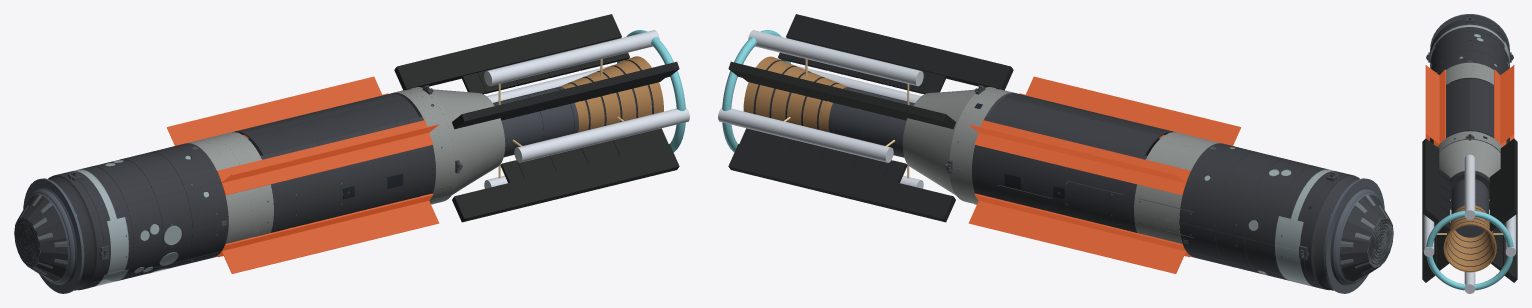
File: wayfarer_nacelle_Metric_f173094b.glb
3 views of the same model, side by side, from view 1: azimuth 30°, elevation 25°; view 2: azimuth 150°, elevation 25°; view 3: azimuth 270°, elevation 25° (orthographic). The views are drawn at different scales.
Parts seen in each view (by area): view 1: dry:armor, dry:skin_midship, dry:hotfin_220:folded_envelope, dry:hotfin_40:folded_envelope, dry:strake_220:extended_pleat_00, dry:strake_140:stowed_stack, dry:strake_40:extended_pleat_00, dry:skin_service, dry:door_port, dry:thrust_cone, dry:nozzle, dry:hotfin_140:folded_envelope (+17 smaller); view 2: dry:armor, dry:skin_midship, dry:hotfin_320:folded_envelope, dry:hotfin_140:folded_envelope, dry:strake_320:extended_pleat_00, dry:strake_40:stowed_stack, dry:strake_140:extended_pleat_00, dry:skin_service, dry:door_starboard, dry:thrust_cone, dry:nozzle, dry:hotfin_40:folded_envelope (+19 smaller); view 3: dry:armor, dry:nozzle, dry:thrust_cone, dry:hotfin_40:folded_envelope, dry:hotfin_140:folded_envelope, dry:door_port, dry:door_starboard, dry:strake_40:extended_pleat_00, dry:strake_140:extended_pleat_00, dry:reactor, dry:skin_service, candidate:dry:metric_nacelle_90 (+26 smaller).
Boxes of the visible parts, left/top/right/bottom form: dry:armor: left=28, top=143, right=228, bottom=290; dry:skin_midship: left=260, top=116, right=435, bottom=232; dry:hotfin_220:folded_envelope: left=452, top=144, right=679, bottom=222; dry:hotfin_40:folded_envelope: left=394, top=14, right=621, bottom=89; dry:strake_220:extended_pleat_00: left=222, top=201, right=439, bottom=273; dry:strake_140:stowed_stack: left=217, top=120, right=433, bottom=195; dry:strake_40:extended_pleat_00: left=167, top=76, right=381, bottom=145; dry:skin_service: left=185, top=132, right=273, bottom=257; dry:door_port: left=247, top=97, right=419, bottom=155; dry:thrust_cone: left=432, top=89, right=505, bottom=194; dry:nozzle: left=559, top=56, right=663, bottom=132; dry:hotfin_140:folded_envelope: left=452, top=61, right=679, bottom=129; dry:armor: left=1179, top=143, right=1379, bottom=290; dry:skin_midship: left=972, top=116, right=1147, bottom=232; dry:hotfin_320:folded_envelope: left=728, top=144, right=955, bottom=222; dry:hotfin_140:folded_envelope: left=786, top=14, right=1013, bottom=90; dry:strake_320:extended_pleat_00: left=968, top=201, right=1185, bottom=273; dry:strake_40:stowed_stack: left=974, top=120, right=1190, bottom=195; dry:strake_140:extended_pleat_00: left=1026, top=76, right=1240, bottom=145; dry:skin_service: left=1134, top=132, right=1222, bottom=257; dry:door_starboard: left=988, top=97, right=1160, bottom=155; dry:thrust_cone: left=902, top=89, right=975, bottom=195; dry:nozzle: left=743, top=56, right=848, bottom=132; dry:hotfin_40:folded_envelope: left=728, top=61, right=955, bottom=129; dry:armor: left=1430, top=19, right=1509, bottom=74; dry:nozzle: left=1443, top=205, right=1496, bottom=272; dry:thrust_cone: left=1439, top=139, right=1500, bottom=209; dry:hotfin_40:folded_envelope: left=1500, top=138, right=1517, bottom=223; dry:hotfin_140:folded_envelope: left=1422, top=138, right=1439, bottom=223; dry:door_port: left=1448, top=78, right=1469, bottom=136; dry:door_starboard: left=1470, top=78, right=1491, bottom=136; dry:strake_40:extended_pleat_00: left=1500, top=65, right=1514, bottom=143; dry:strake_140:extended_pleat_00: left=1425, top=65, right=1439, bottom=143; dry:reactor: left=1451, top=179, right=1488, bottom=237; dry:skin_service: left=1446, top=62, right=1493, bottom=84; candidate:dry:metric_nacelle_90: left=1464, top=154, right=1475, bottom=219.
Size of the model in its own units: 55.5 by 10.42 by 10.73.
